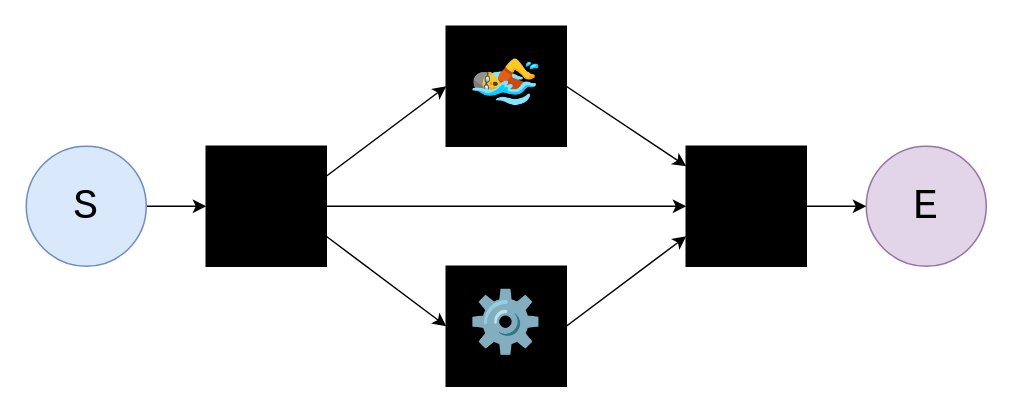
This 1013x413 diagram has some shape labels left out. The shapes that lost their labels are listed below. From the top down, each one's centre as x and y in pixels, then its label:
At (265,205): "Din".
At (745,205): "Dout".
